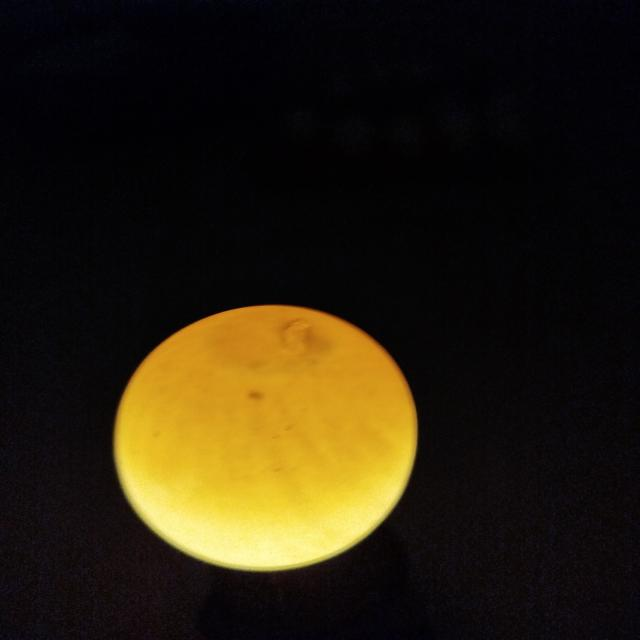Camara de Ar: (211, 305, 335, 379)
Rachadura: (282, 319, 312, 351)
